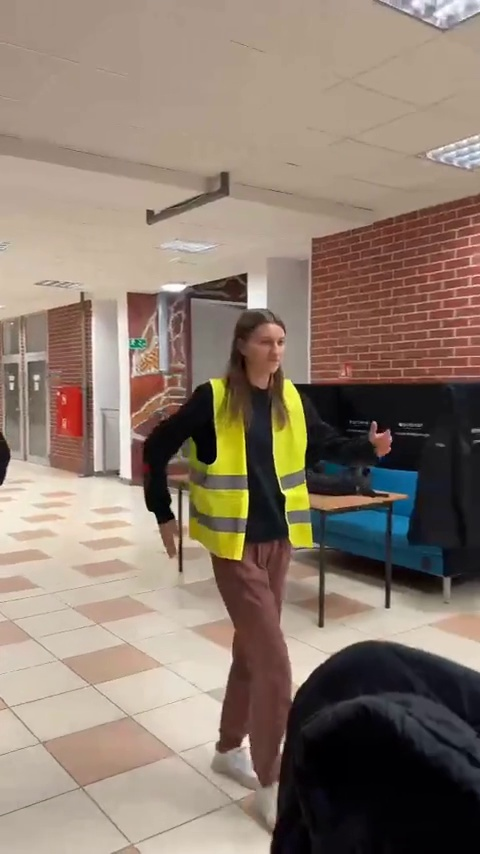vest: (151, 310, 362, 812)
